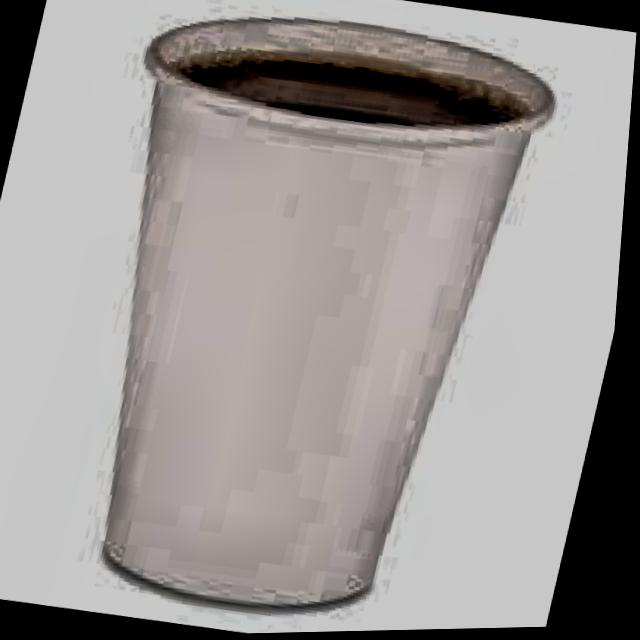Cup: (30, 0, 570, 639)
